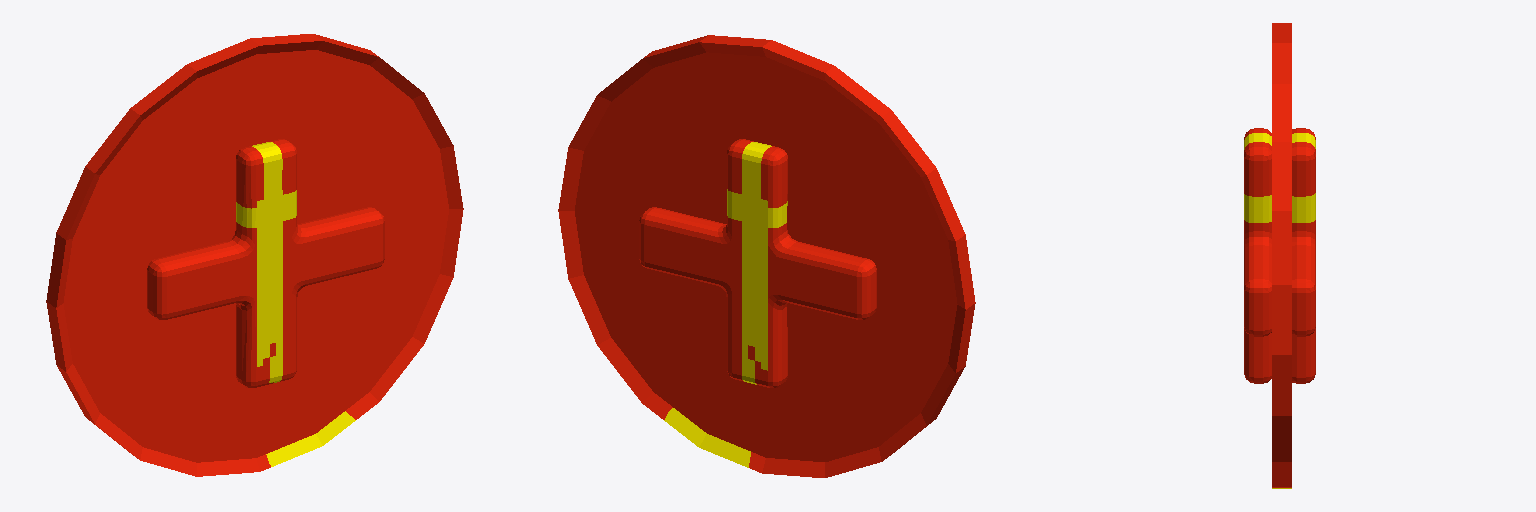
3 views of the same model, side by side, from view 1: azimuth 30°, elevation 25°; view 2: azimuth 150°, elevation 25°; view 3: azimuth 270°, elevation 25° (orthographic).
Parts seen in each view (by area): view 1: Heal; view 2: Heal; view 3: Heal.
Boxes of the visible parts, x1,y1,x2,y2 form: Heal: [46, 34, 463, 476]; Heal: [558, 35, 975, 477]; Heal: [1244, 23, 1315, 488].
Size of the model in its own units: 2.92 by 2.92 by 0.4484.
Materials: 1 (1 with a texture image).